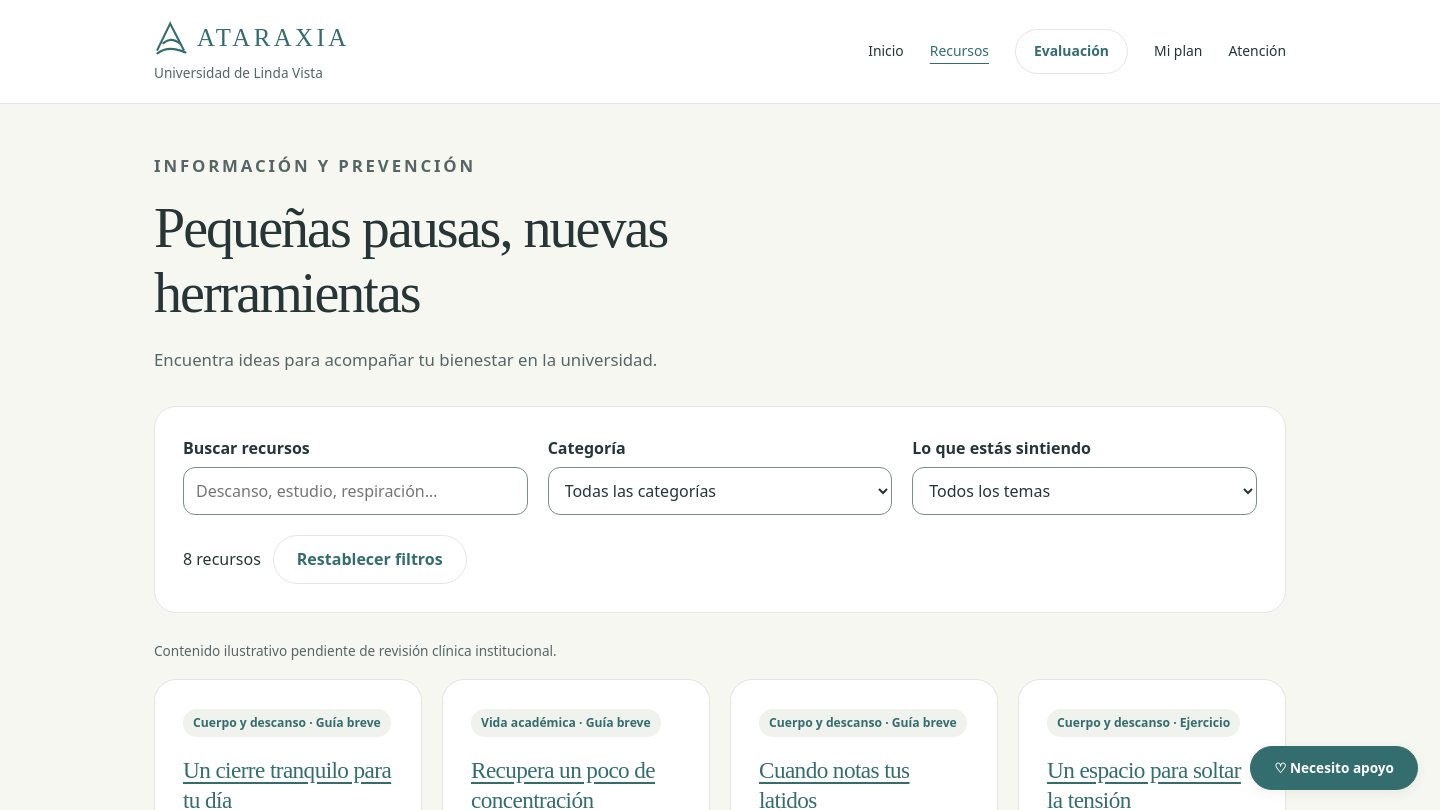
accessible routes and navigation › filters resources and provides a recoverable empty state
The width and height of the screenshot is (1440, 810).
Step 1. Type "unfindable" into the field labelled "Buscar recursos" → (355, 491), box [183,467,528,515]
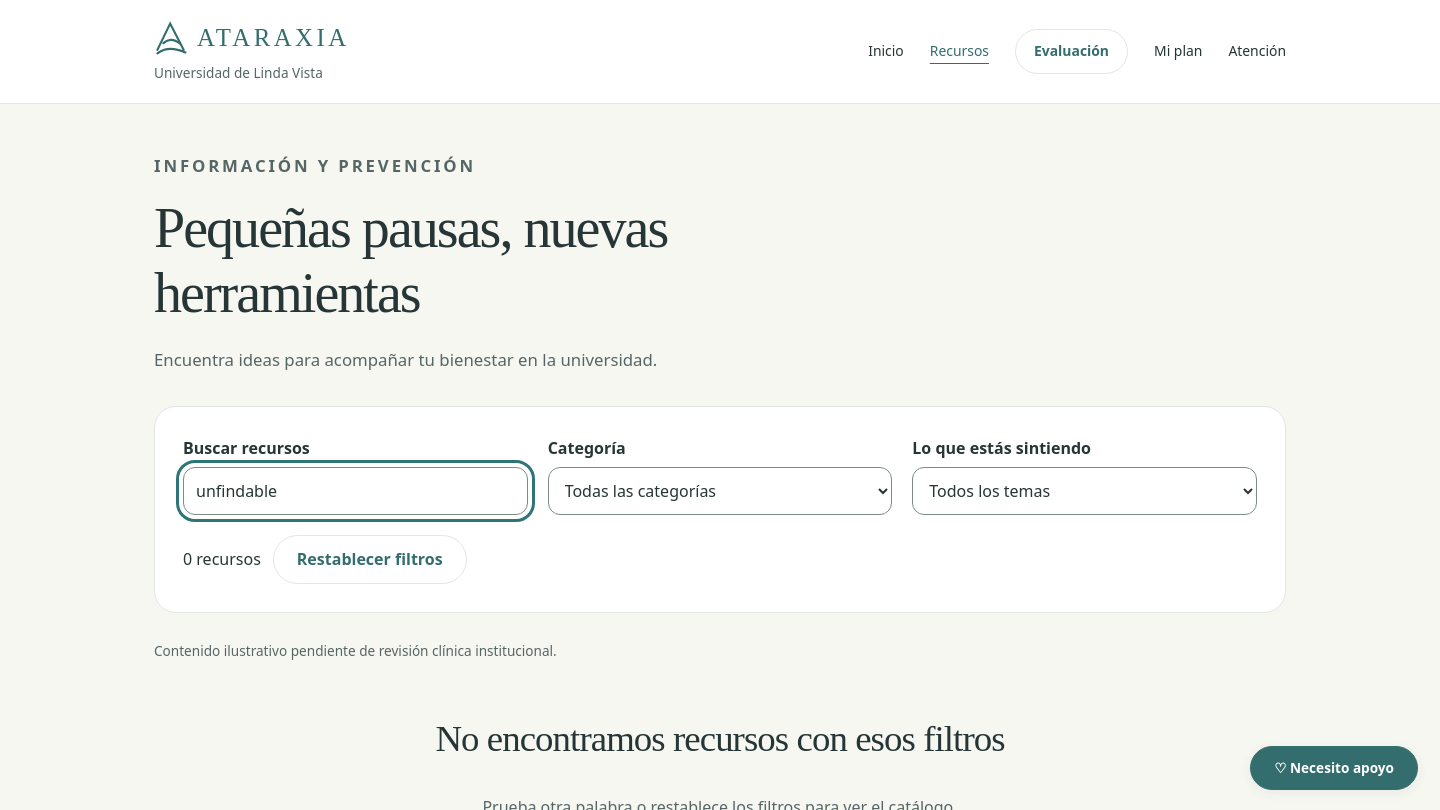
Result: the heading "No encontramos recursos con esos filtros" is shown at [435,718,1005,759]
Step 2. Click the button "Restablecer filtros" → (370, 560), box [273,535,467,584]
(page scrolled)
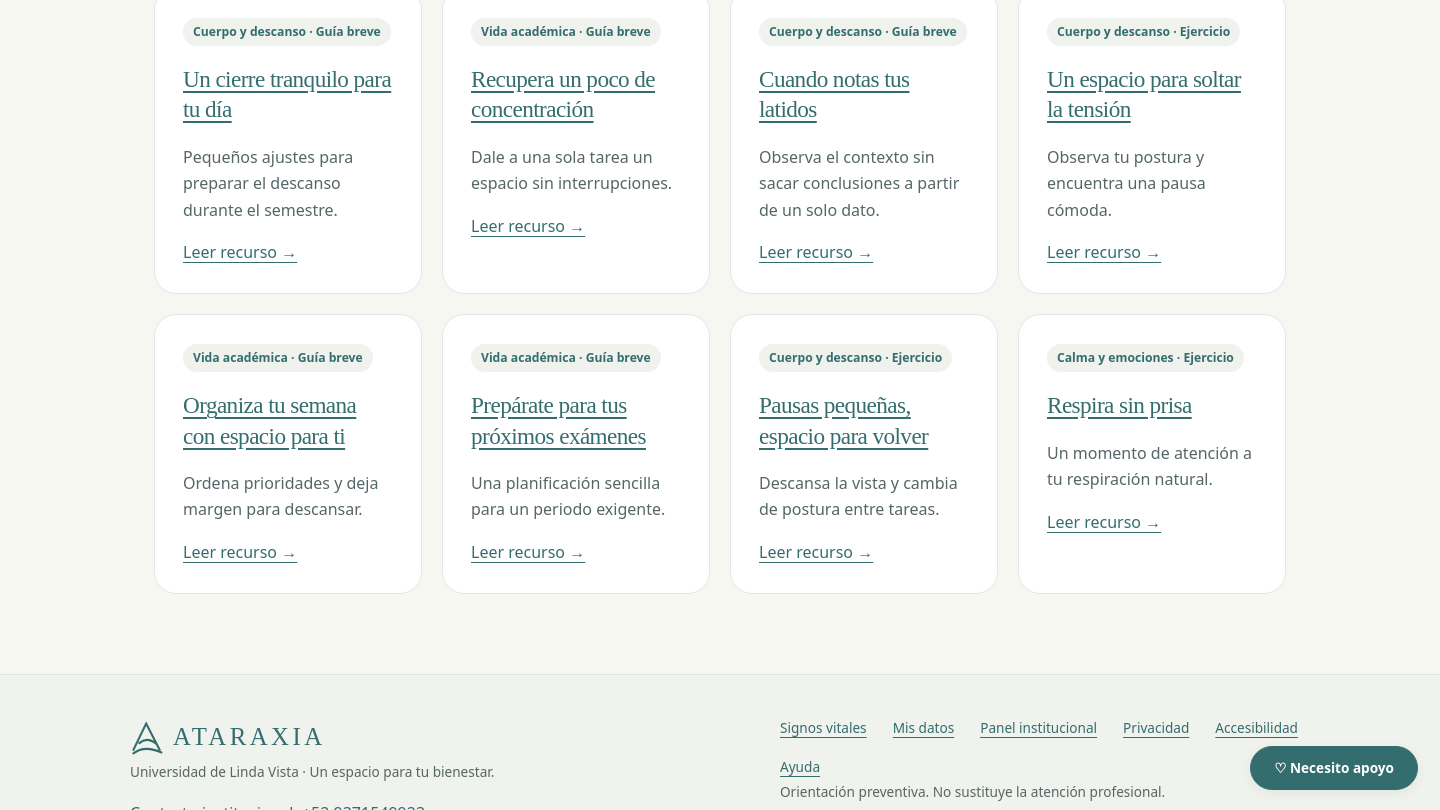
Result: the link "Respira sin prisa" is shown at [1047,392,1192,418]
